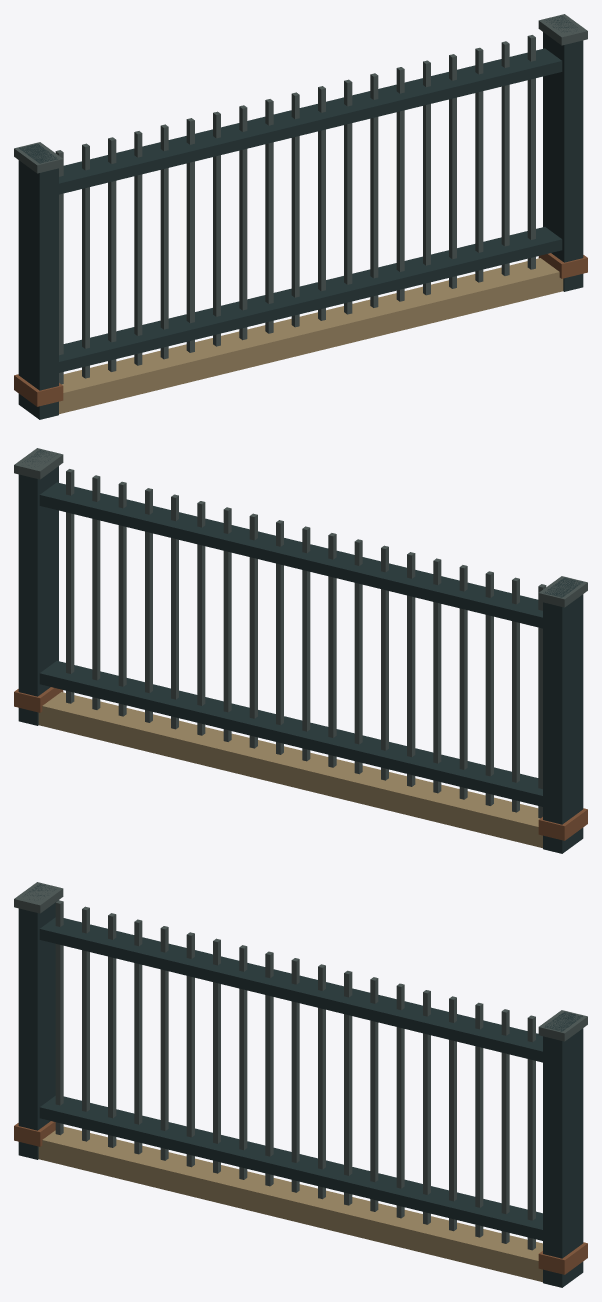
Rendered from FSA_ENV_Quarantine_Straight.glb.
3 renders of one model, top to bottom at view 1: azimuth 30°, elevation 25°; view 2: azimuth 150°, elevation 25°; view 3: azimuth 330°, elevation 25°, orthographic.
Parts seen in each view (by area): view 1: X_Foot, X_Rail0_5, X_Rail2_45, X_Post0, X_Post6, X_Bar264, X_Bar354, X_Bar504, X_Bar114, X_Bar234, X_Bar84, X_Bar144 (+16 smaller); view 2: X_Foot, X_Rail0_5, X_Rail2_45, X_Post0, X_Post6, X_Bar264, X_Bar354, X_Bar504, X_Bar114, X_Bar234, X_Bar84, X_Bar144 (+16 smaller); view 3: X_Foot, X_Rail0_5, X_Rail2_45, X_Post6, X_Post0, X_Bar564, X_Bar144, X_Bar264, X_Bar294, X_Bar414, X_Bar174, X_Bar234 (+16 smaller).
Part boxes in pixels (box(x1,y1,x2,y2)): X_Foot: box(59, 258, 563, 414); X_Rail0_5: box(59, 227, 562, 372); X_Rail2_45: box(59, 48, 562, 194); X_Post0: box(18, 143, 58, 419); X_Post6: box(543, 16, 583, 291); X_Bar264: box(265, 99, 273, 333); X_Bar354: box(344, 79, 352, 314); X_Bar504: box(475, 47, 483, 282); X_Bar114: box(134, 131, 142, 365); X_Bar234: box(239, 105, 247, 340); X_Bar84: box(108, 137, 116, 371); X_Bar144: box(160, 124, 168, 359); X_Foot: box(38, 692, 542, 848); X_Rail0_5: box(39, 661, 542, 806); X_Rail2_45: box(39, 482, 542, 628); X_Post0: box(543, 577, 583, 853); X_Post6: box(18, 450, 58, 725); X_Bar264: box(328, 533, 336, 767); X_Bar354: box(249, 513, 257, 748); X_Bar504: box(118, 481, 126, 716); X_Bar114: box(459, 565, 467, 799); X_Bar234: box(354, 539, 362, 774); X_Bar84: box(485, 571, 493, 805); X_Bar144: box(433, 558, 441, 793); X_Foot: box(38, 1126, 542, 1282); X_Rail0_5: box(39, 1096, 542, 1240); X_Rail2_45: box(39, 917, 542, 1062); X_Post6: box(543, 1011, 583, 1287); X_Post0: box(18, 884, 58, 1159); X_Bar564: box(527, 1015, 535, 1250); X_Bar144: box(160, 926, 168, 1160); X_Bar264: box(265, 951, 273, 1186); X_Bar294: box(291, 958, 299, 1192); X_Bar414: box(396, 983, 404, 1218); X_Bar174: box(186, 932, 194, 1167); X_Bar234: box(239, 945, 247, 1179).
Size of what is drawn, in the model's own units: 6.3 by 2.8 by 0.46.
